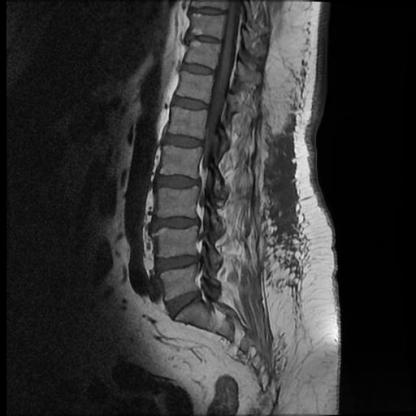Degenerative Disc Diseaserotation: (153, 250, 200, 277)
Disc Bulgerotation: (151, 213, 200, 238), (153, 250, 200, 276), (157, 171, 202, 193), (163, 131, 206, 153), (165, 289, 203, 313)
